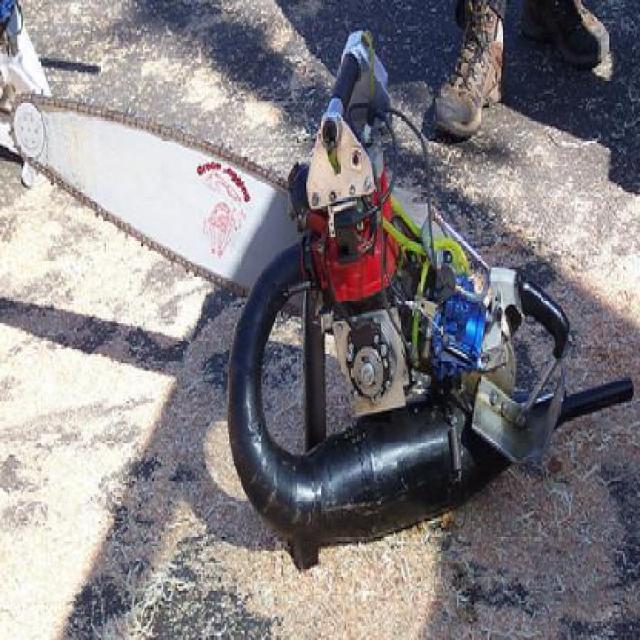Chainsaw: (10, 31, 632, 572)
